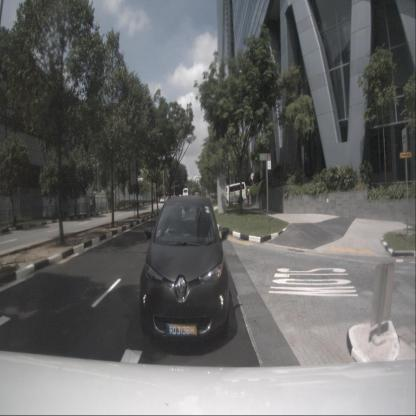human-pedestrian-adult: (247, 186, 250, 204), (93, 196, 96, 212), (90, 197, 93, 213)
vehicle-bus-rigid: (182, 188, 190, 201)
vehicle-car: (140, 196, 229, 344), (222, 182, 246, 208), (160, 196, 166, 204)
